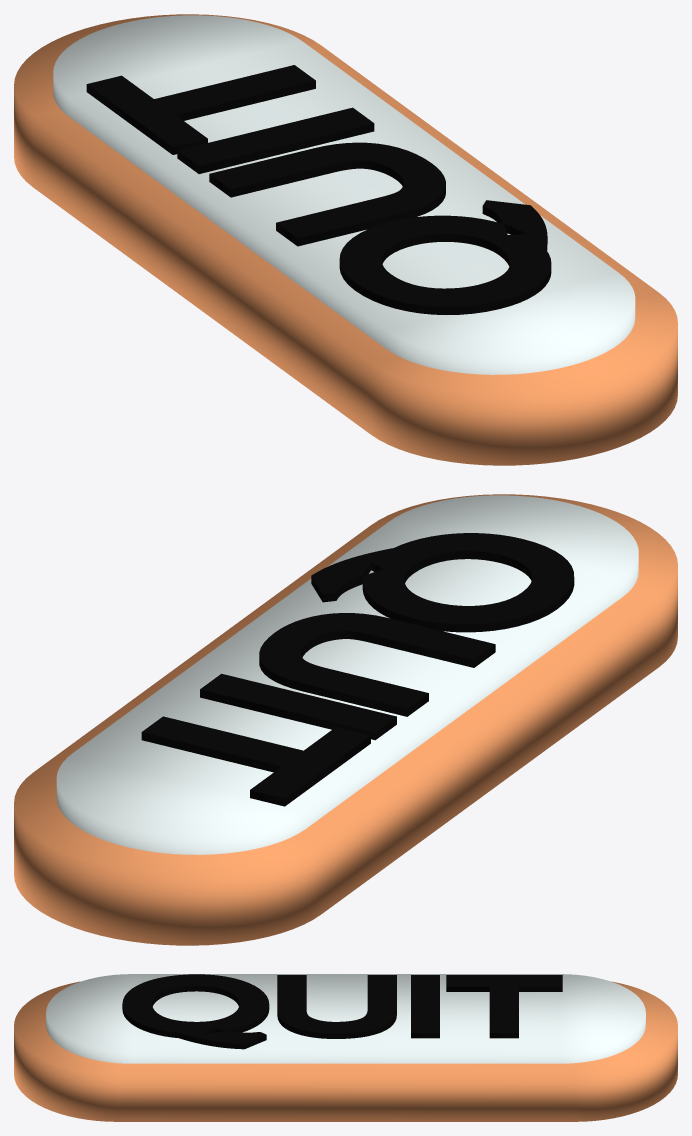
The model's file is quit.fbx.
The picture shows the model from 3 angles, top to bottom: view 1: azimuth 30°, elevation 25°; view 2: azimuth 150°, elevation 25°; view 3: azimuth 270°, elevation 25°; orthographic projection. The views are drawn at different scales.
Visible parts, largest first — view 1: obj_0.004, obj_0.005, t.002; view 2: obj_0.004, obj_0.005, t.002; view 3: obj_0.004, obj_0.005, t.002.
Boxes of the visible parts, x1=… form: obj_0.004: x1=14, y1=14, x2=677, y2=465; obj_0.005: x1=53, y1=15, x2=635, y2=374; t.002: x1=86, y1=65, x2=551, y2=314; obj_0.004: x1=14, y1=494, x2=677, y2=945; obj_0.005: x1=56, y1=495, x2=638, y2=854; t.002: x1=141, y1=533, x2=574, y2=806; obj_0.004: x1=14, y1=981, x2=677, y2=1121; obj_0.005: x1=46, y1=974, x2=645, y2=1063; t.002: x1=122, y1=974, x2=562, y2=1049.
Bounding box in the file's own units: 210 × 68.74 × 620.
